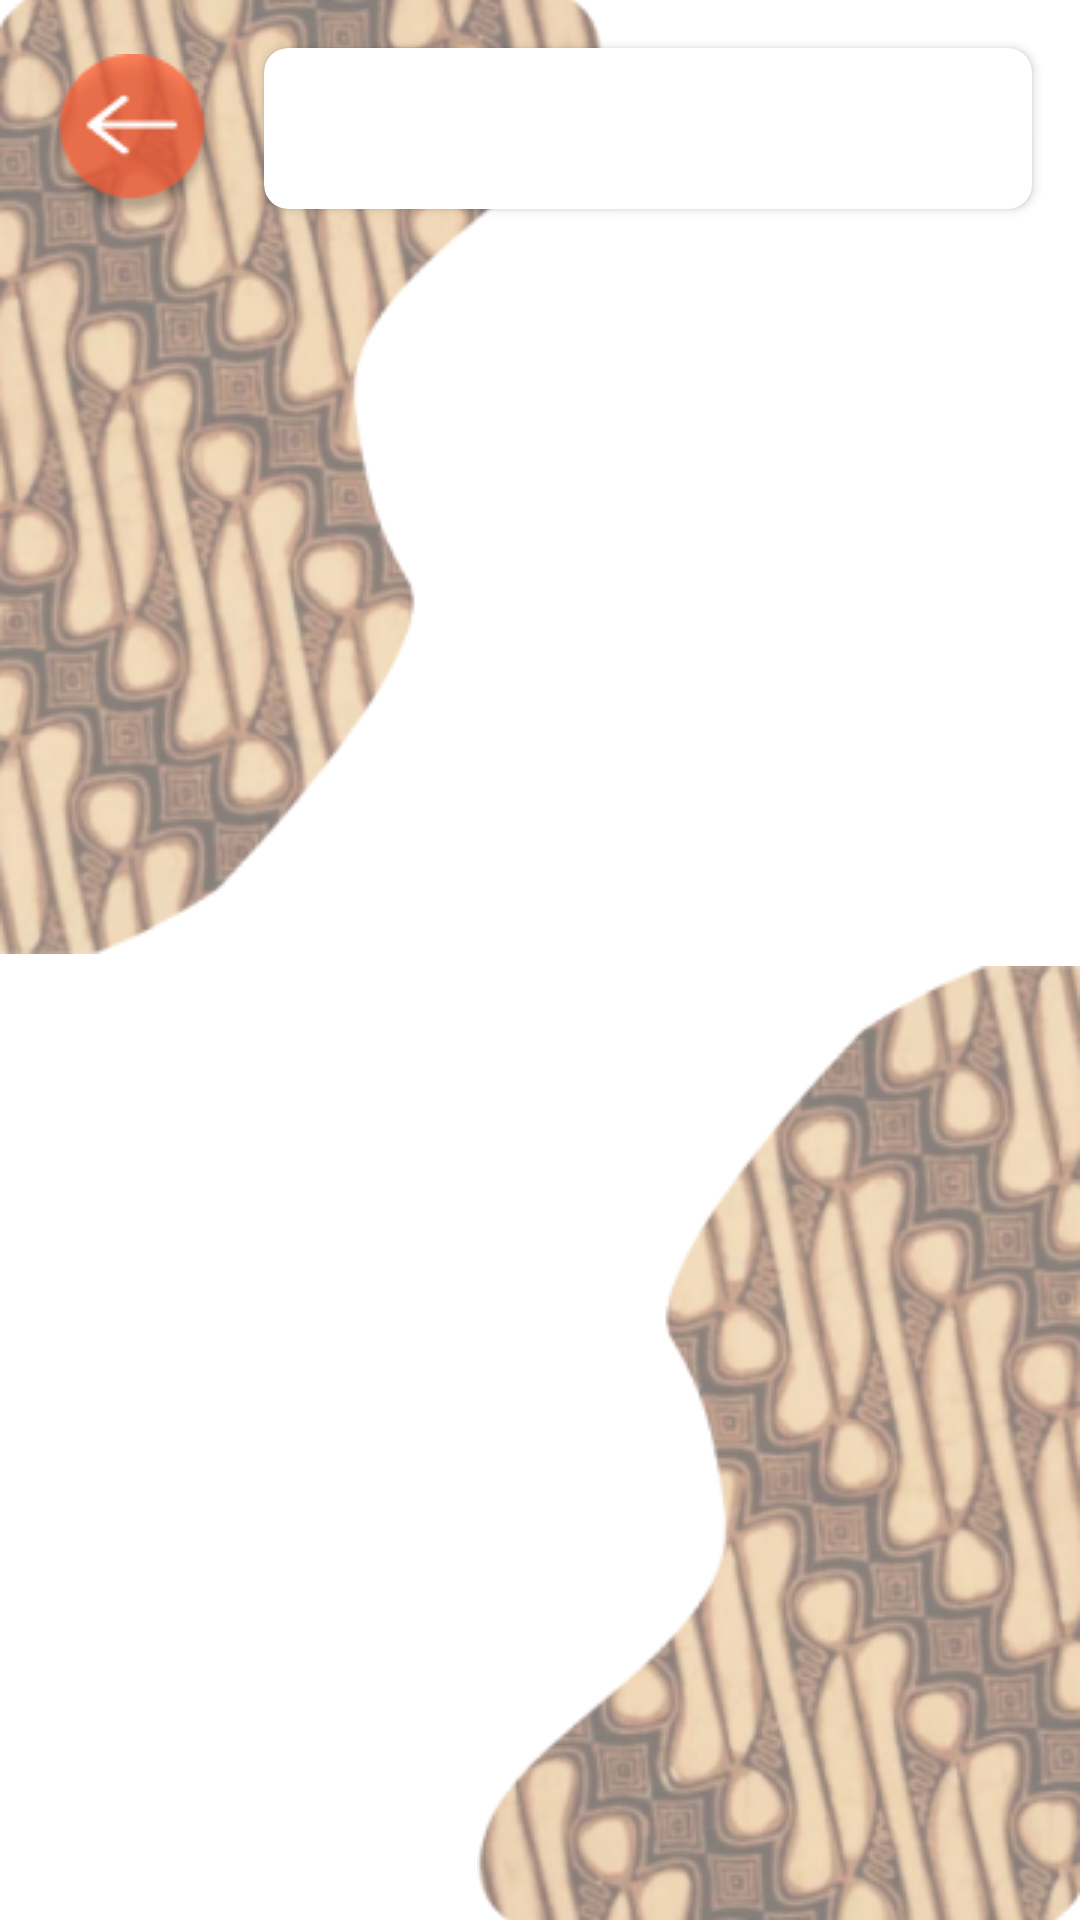

Named icons in this screenshot (1080×1920) and their centers, (x,y):
Back Button: (132,138)
